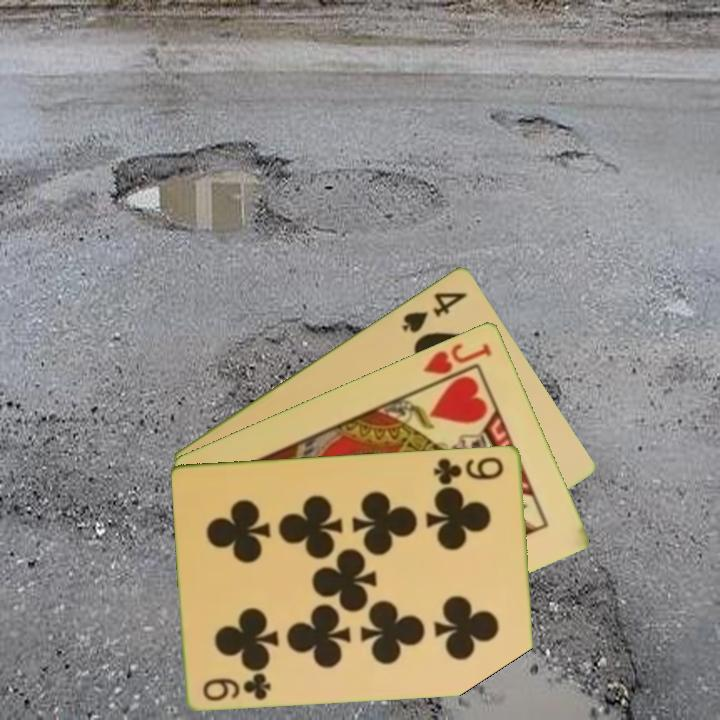4s: (398, 287, 471, 336)
9c: (430, 453, 507, 487), (200, 669, 274, 704)
Jh: (420, 339, 495, 390)
